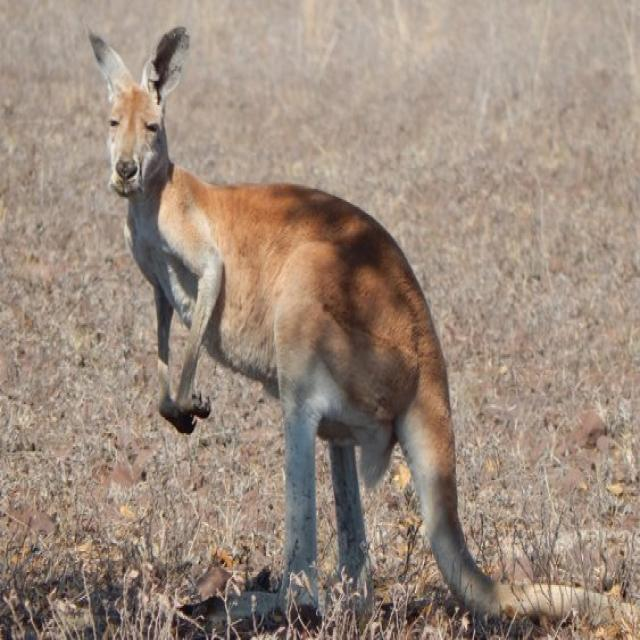Kangaroo: (74, 17, 633, 618)
